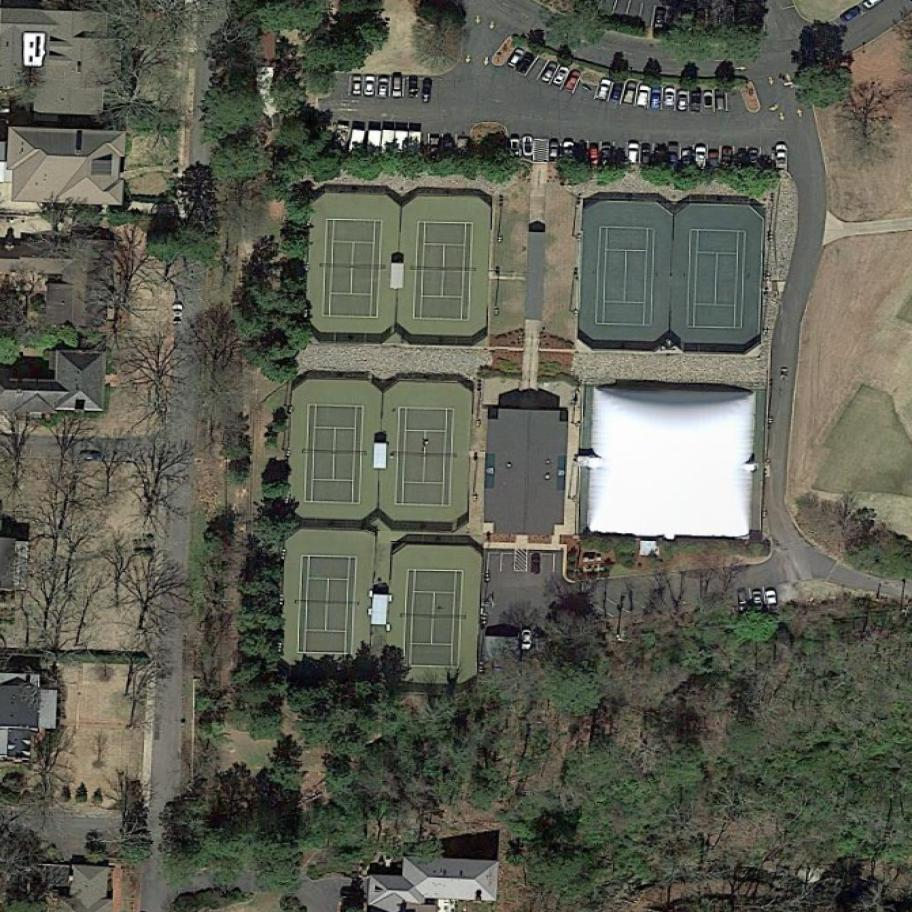large-vehicle: (322, 123, 352, 173), (343, 126, 368, 174), (408, 132, 428, 179), (379, 130, 398, 178), (391, 130, 409, 180), (366, 129, 383, 173)
small-vehicle: (764, 585, 783, 613), (515, 51, 536, 76), (506, 46, 526, 71), (839, 5, 863, 25), (651, 4, 669, 30), (564, 69, 583, 93), (552, 65, 571, 88), (595, 78, 613, 102), (541, 60, 559, 84), (171, 303, 188, 327), (428, 134, 443, 161), (601, 141, 616, 168), (622, 81, 638, 105), (443, 134, 457, 161), (776, 144, 790, 171), (636, 83, 651, 108), (733, 146, 749, 169), (457, 137, 472, 161), (652, 143, 667, 167), (750, 587, 765, 611), (510, 133, 524, 158), (680, 144, 695, 167), (610, 81, 626, 102), (421, 79, 434, 104), (695, 146, 708, 171), (561, 140, 575, 163), (667, 142, 680, 166), (364, 75, 378, 97), (589, 142, 601, 167), (737, 587, 749, 612), (708, 148, 722, 169), (523, 136, 536, 158), (391, 77, 404, 98), (748, 148, 761, 169), (651, 87, 662, 111), (378, 77, 390, 99), (521, 629, 533, 651), (721, 147, 734, 167), (690, 89, 701, 112), (408, 76, 419, 99), (628, 143, 640, 164), (665, 88, 676, 110), (716, 90, 727, 111), (703, 90, 715, 109), (678, 90, 689, 110), (352, 76, 363, 96), (530, 554, 541, 574), (550, 139, 560, 158), (642, 144, 651, 164)
